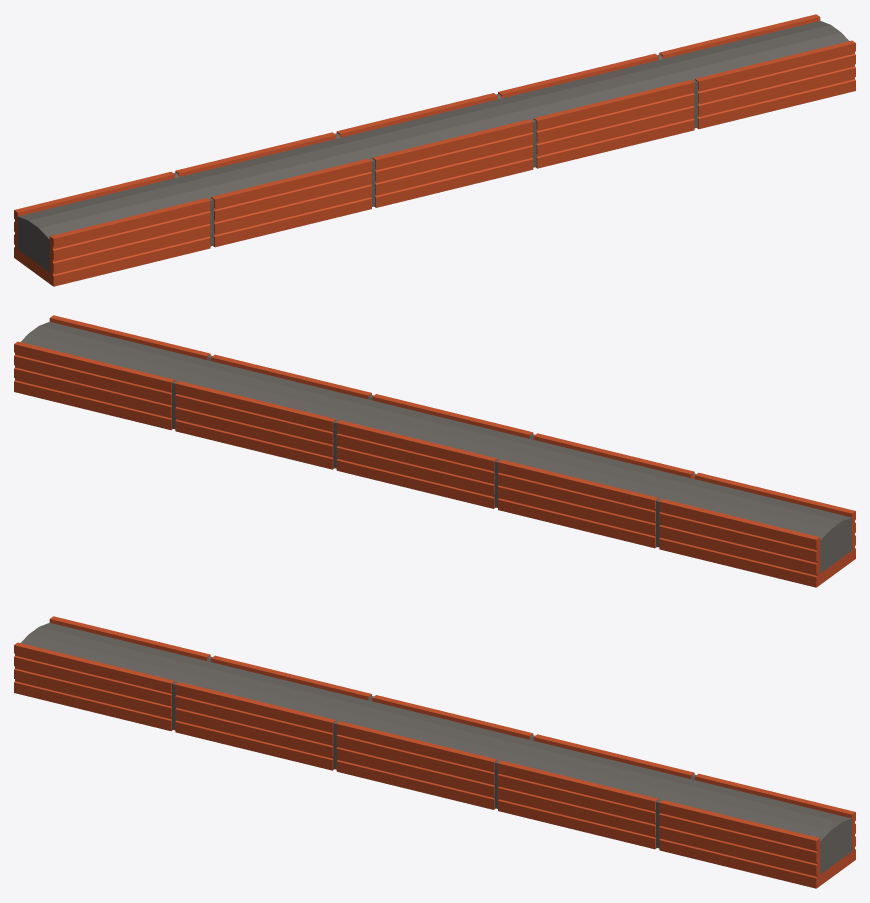
3 renders of one model, top to bottom at view 1: azimuth 30°, elevation 25°; view 2: azimuth 150°, elevation 25°; view 3: azimuth 330°, elevation 25°, orthographic.
Visible parts, largest first — view 1: Türsturz; view 2: Türsturz; view 3: Türsturz.
Part boxes in pixels (bbox=[...]): Türsturz: bbox=[14, 14, 855, 286]; Türsturz: bbox=[14, 315, 855, 587]; Türsturz: bbox=[14, 616, 855, 888].
Bounding box in the file's own units: 1.76 × 0.1 × 0.15.
